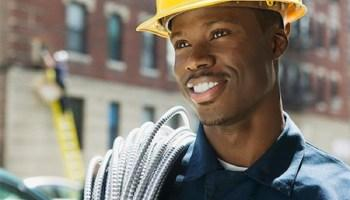helmet: (137, 1, 309, 38)
